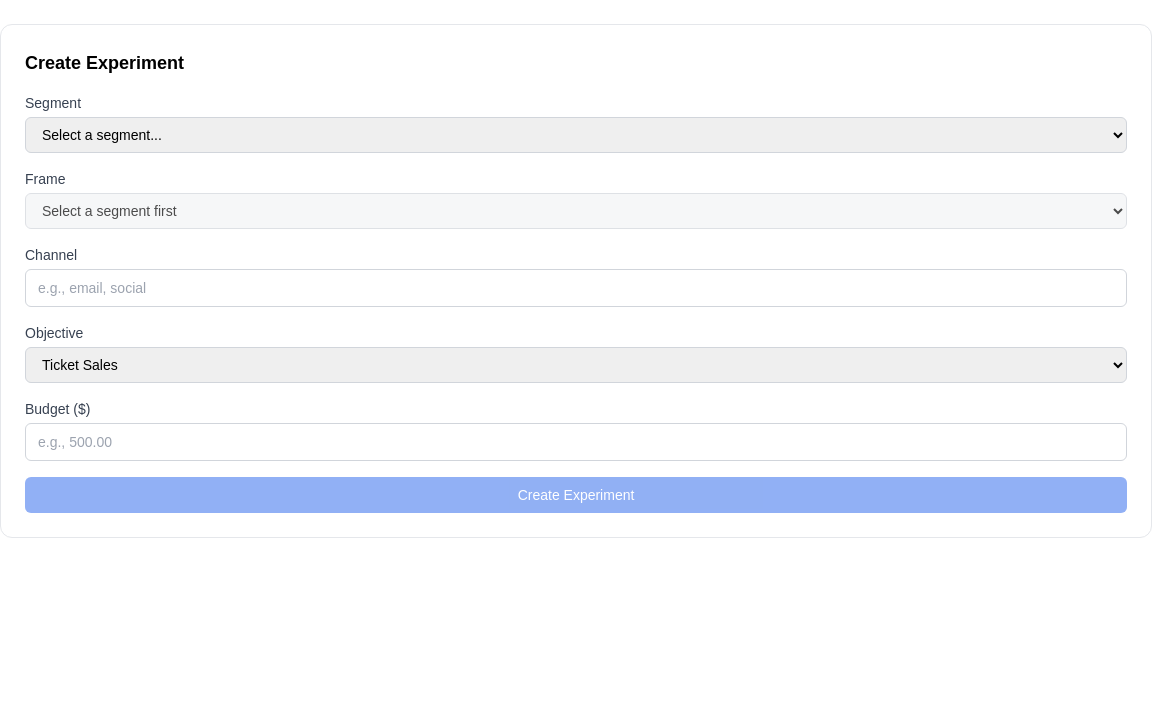
Test: ExperimentForm › enables submit when all fields are filled
Select "Gen Pop" in the dropdown labelled "Segment" at (576, 135), box left=25, top=117, right=1127, bottom=153
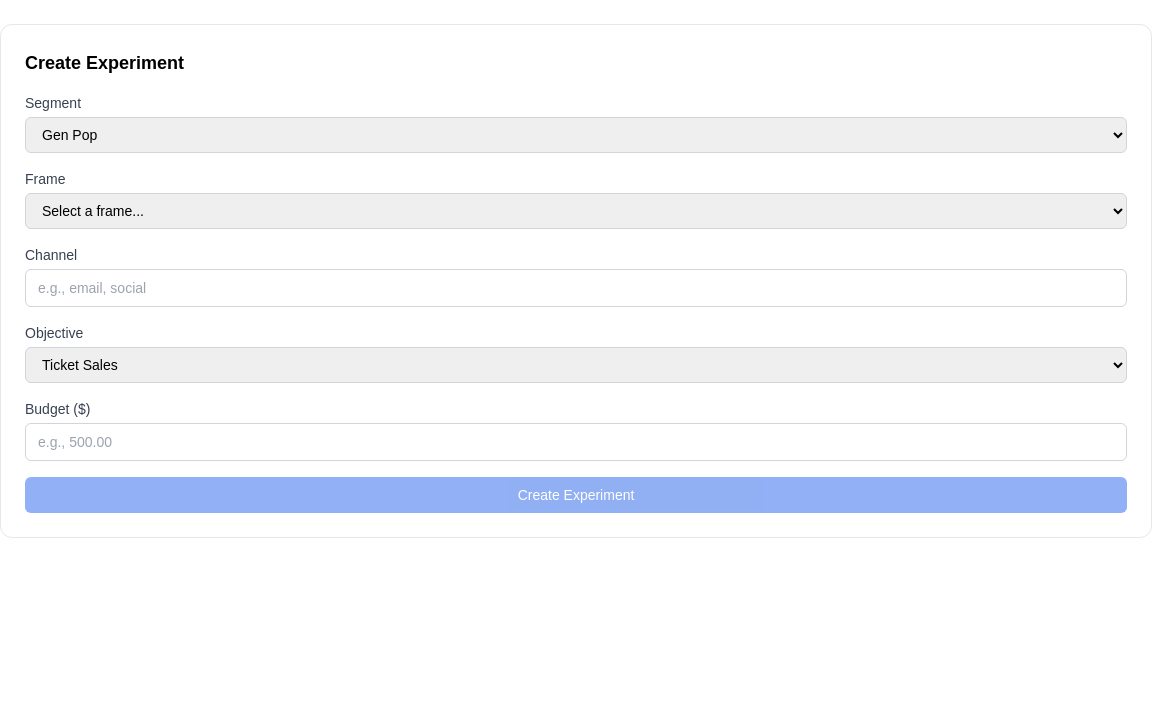
Select "Hypothesis for gen pop..." in the dropdown labelled "Frame" at (576, 211), box left=25, top=193, right=1127, bottom=229
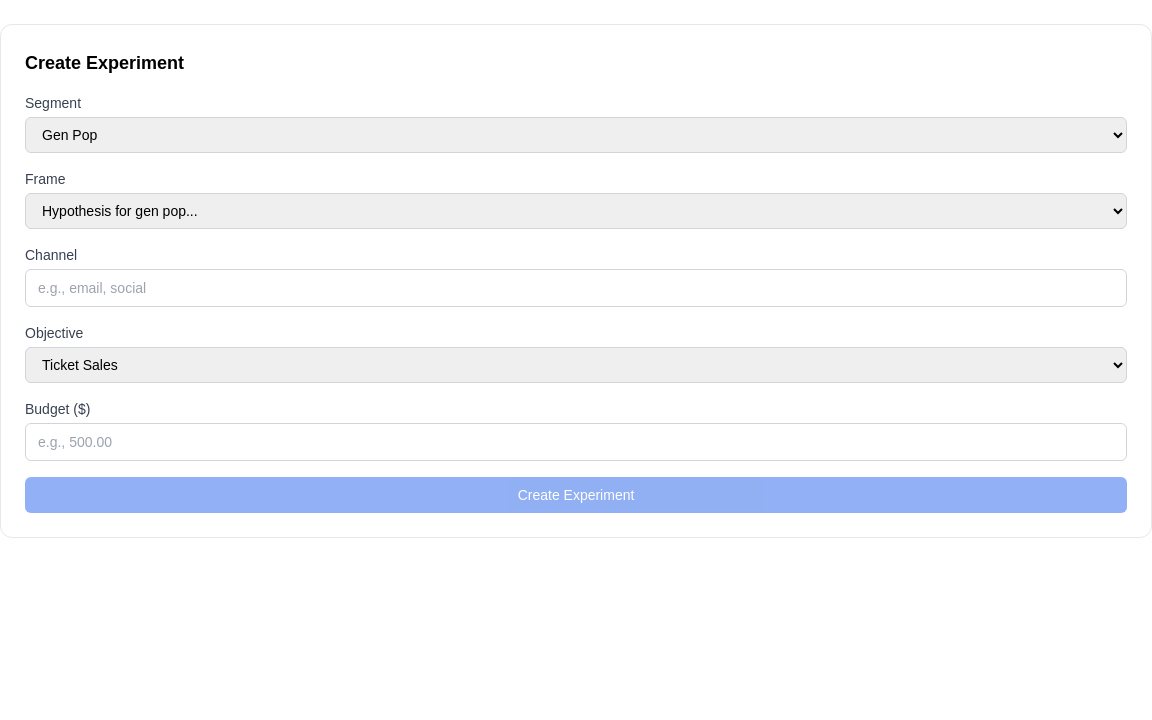
Type "email" into the field labelled "Channel".
click(576, 288); type("email")  # box left=25, top=269, right=1127, bottom=307
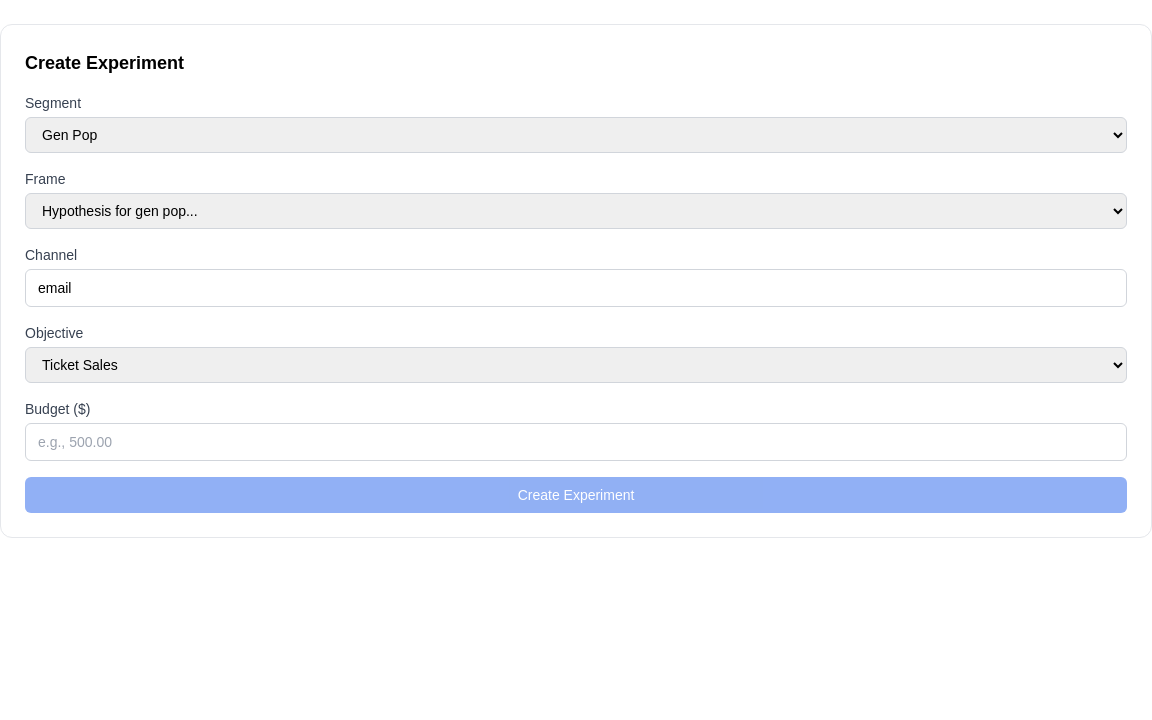
Type "500" into the number field labelled "Budget ($)".
click(576, 442); type("500")  # box left=25, top=423, right=1127, bottom=461
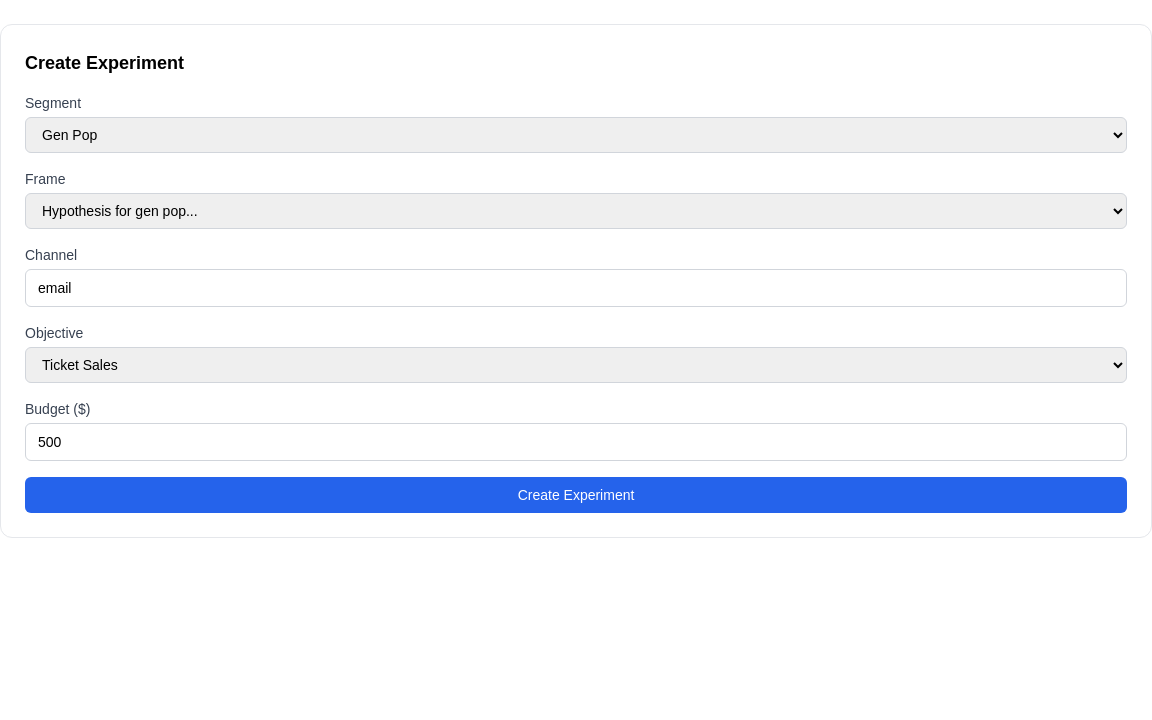
Now the button "Create Experiment" is enabled, box left=25, top=477, right=1127, bottom=513
